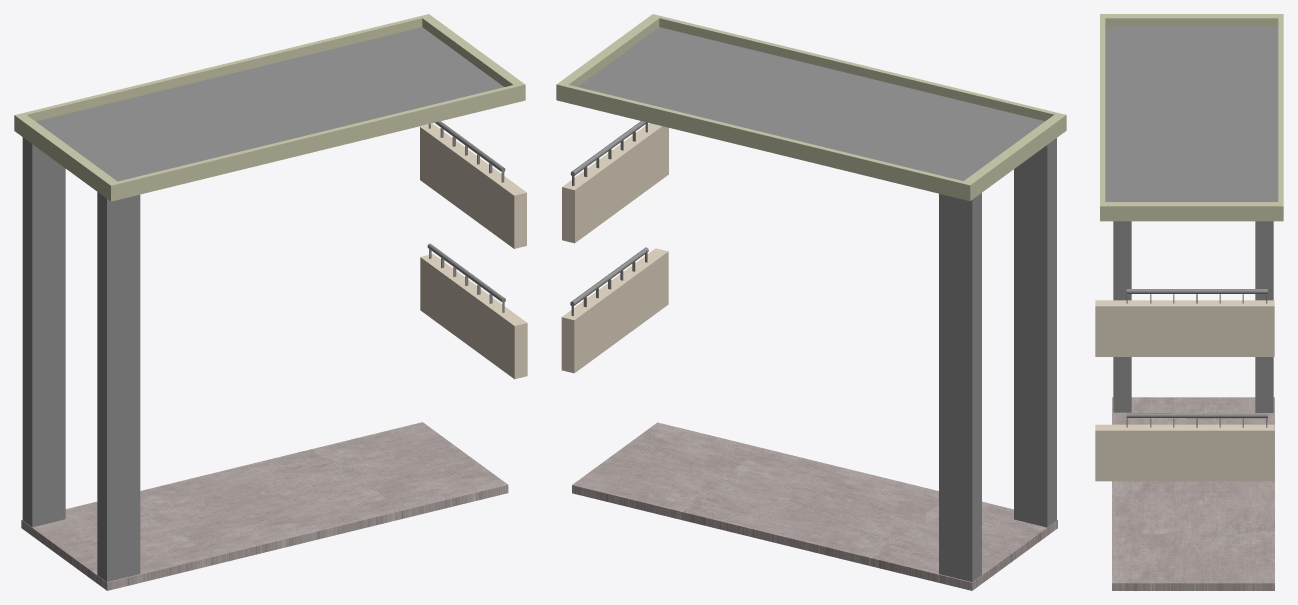
The model's file is 三層樓梯.fbx.
The picture shows the model from 3 angles, left to right: view 1: azimuth 30°, elevation 25°; view 2: azimuth 150°, elevation 25°; view 3: azimuth 270°, elevation 25°; orthographic projection. The views are drawn at different scales.
Parts seen in each view (by area): view 1: 建築天花板005, 走廊地板1000.320.023, 中間樓梯柱子004, 中間樓梯柱子003, 走廊面外的下牆995.15.162, 走廊面外的下牆995.15.164, 欄杆016, 欄杆017; view 2: 建築天花板005, 走廊地板1000.320.023, 中間樓梯柱子003, 中間樓梯柱子004, 走廊面外的下牆995.15.162, 走廊面外的下牆995.15.164, 欄杆016, 欄杆017; view 3: 建築天花板005, 走廊地板1000.320.023, 走廊面外的下牆995.15.162, 走廊面外的下牆995.15.164, 中間樓梯柱子004, 中間樓梯柱子003, 欄杆016, 欄杆017.
Boxes of the visible parts, <box> form: 建築天花板005: <box>14,14,525,201</box>; 走廊地板1000.320.023: <box>21,422,508,590</box>; 中間樓梯柱子004: <box>97,192,140,581</box>; 中間樓梯柱子003: <box>22,137,65,527</box>; 走廊面外的下牆995.15.162: <box>420,254,527,379</box>; 走廊面外的下牆995.15.164: <box>420,123,526,248</box>; 欄杆016: <box>427,243,505,312</box>; 欄杆017: <box>428,121,505,182</box>; 建築天花板005: <box>556,14,1066,200</box>; 走廊地板1000.320.023: <box>572,422,1057,590</box>; 中間樓梯柱子003: <box>939,193,981,582</box>; 中間樓梯柱子004: <box>1014,138,1056,527</box>; 走廊面外的下牆995.15.162: <box>561,248,668,373</box>; 走廊面外的下牆995.15.164: <box>562,123,668,243</box>; 欄杆016: <box>570,247,648,316</box>; 欄杆017: <box>570,121,647,185</box>; 建築天花板005: <box>1100,14,1283,221</box>; 走廊地板1000.320.023: <box>1112,397,1274,590</box>; 走廊面外的下牆995.15.162: <box>1095,424,1274,481</box>; 走廊面外的下牆995.15.164: <box>1095,300,1274,356</box>; 中間樓梯柱子004: <box>1113,221,1131,412</box>; 中間樓梯柱子003: <box>1255,221,1273,412</box>; 欄杆016: <box>1126,413,1267,427</box>; 欄杆017: <box>1126,289,1267,303</box>.
Size of the model in its own units: 488 by 462 by 202.
5 materials, 1 textured.
